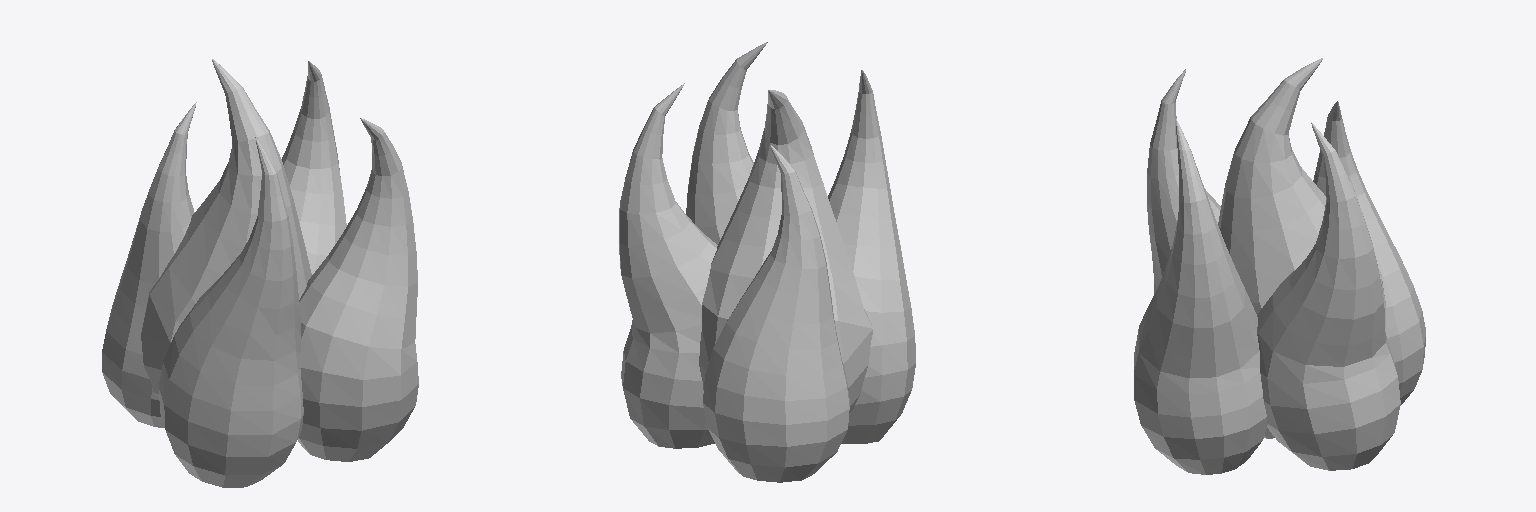
Rendered from fire_000038.obj.
3 renders of one model, left to right at view 1: azimuth 30°, elevation 25°; view 2: azimuth 150°, elevation 25°; view 3: azimuth 270°, elevation 25°, orthographic.
Visible parts, largest first — view 1: flame_NurbsPath.015; view 2: flame_NurbsPath.015; view 3: flame_NurbsPath.015.
Part boxes in pixels (left/top/right/bottom): flame_NurbsPath.015: left=102, top=59, right=418, bottom=487; flame_NurbsPath.015: left=619, top=42, right=915, bottom=482; flame_NurbsPath.015: left=1134, top=58, right=1425, bottom=474.
Bounding box in the file's own units: 0.7401 × 1.15 × 0.8112.